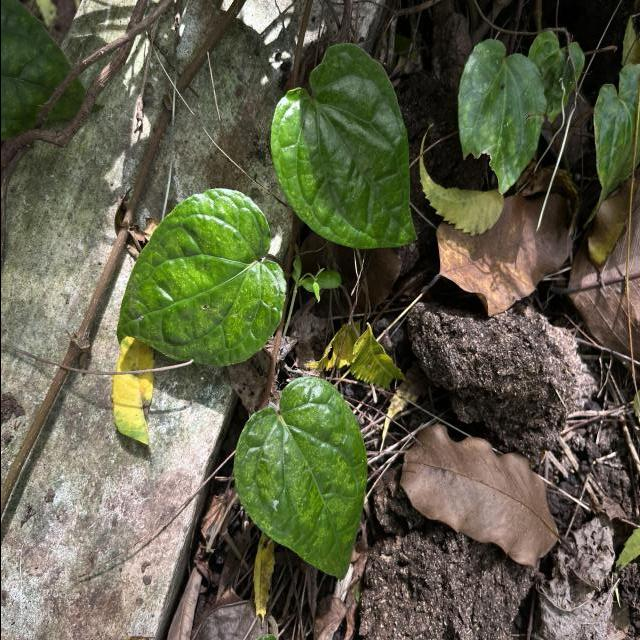Piper betle: (267, 40, 419, 252), (114, 185, 288, 370), (231, 374, 368, 583)
